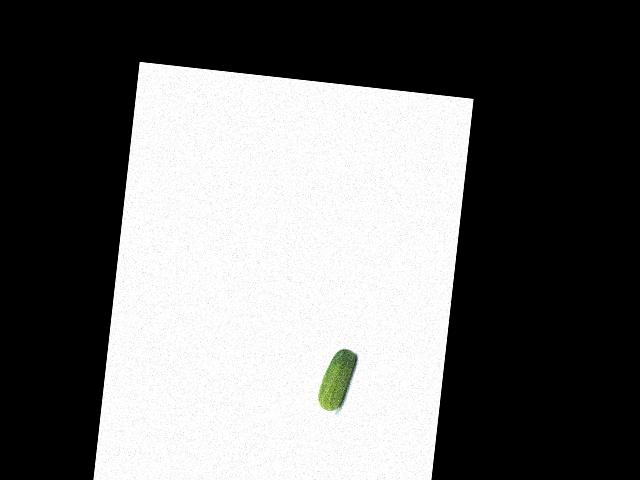cucumber: (317, 346, 357, 412)
